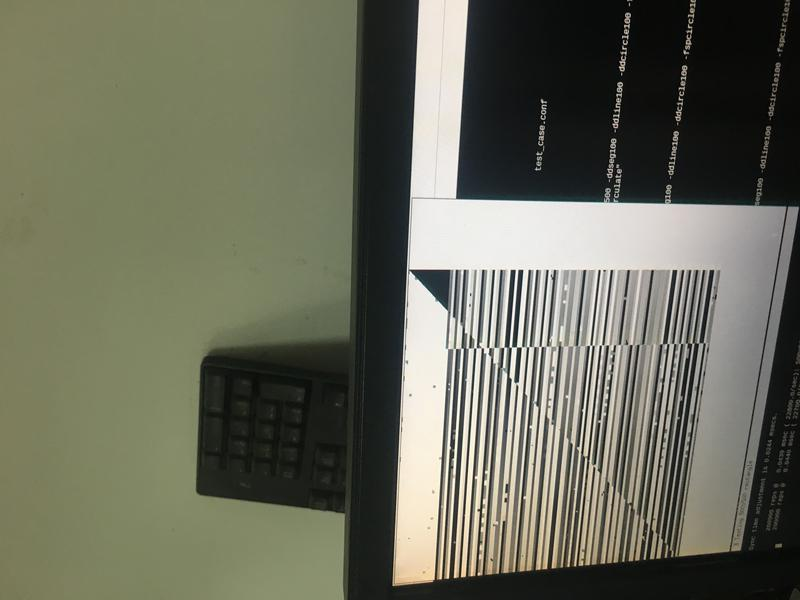xrandr_pass: (369, 175, 800, 590)
